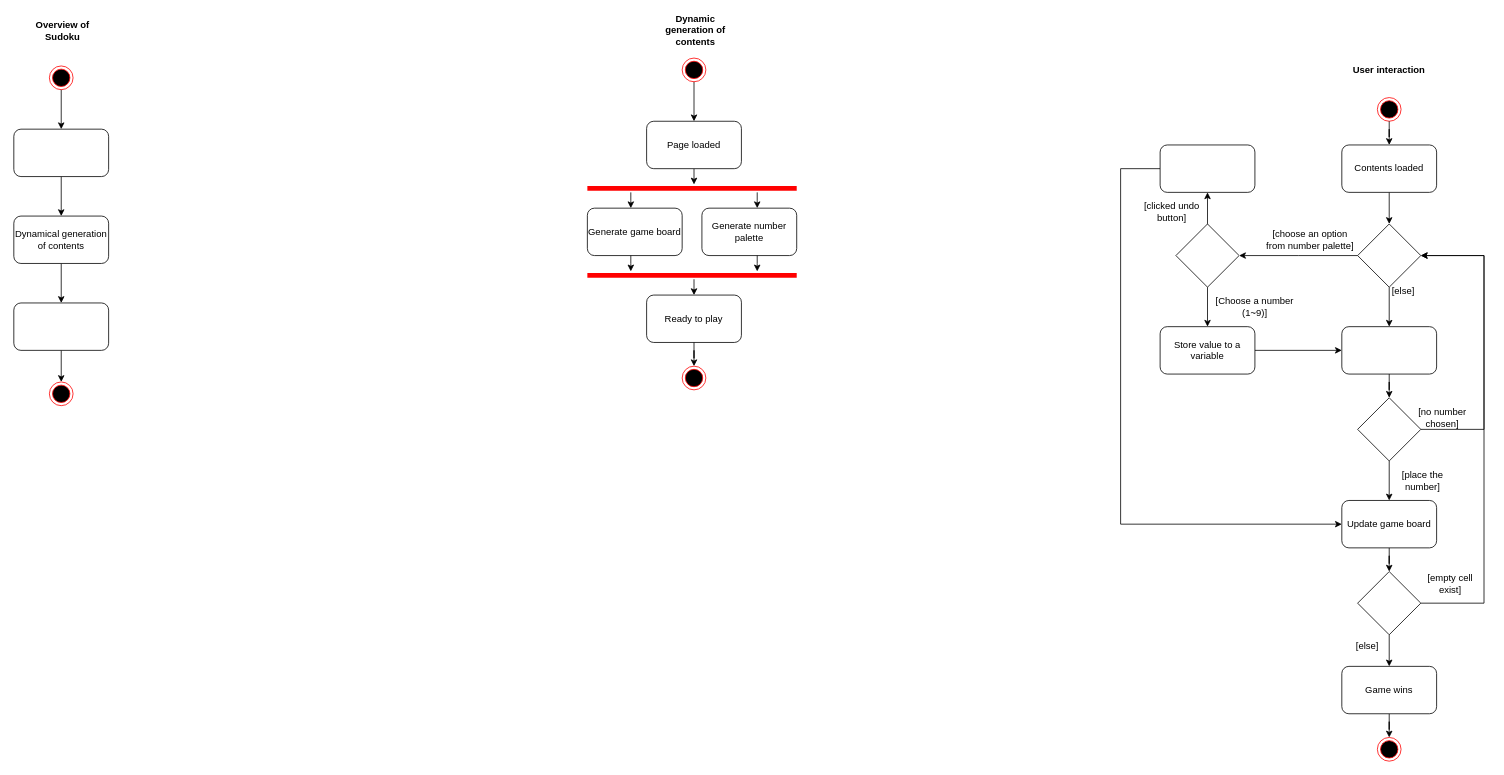
Image size: 1504x775. Some labels were removed from this diagram. The box of each missing label's shape, as (x1, y1, x2, y2) in pixels:
Access sudoku page: (13, 128, 109, 177)
Pop element from stack: (1159, 144, 1255, 192)
User click on game board empty cell: (1341, 326, 1437, 374)
User interact with generated contents: (13, 302, 109, 350)
